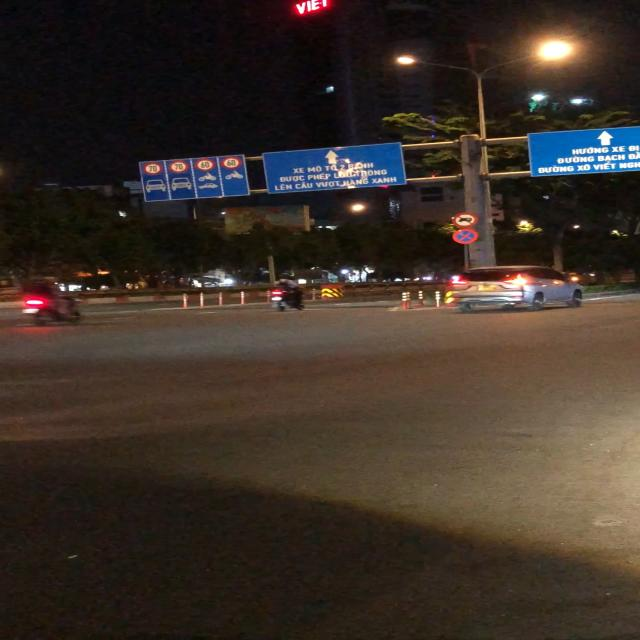Bien bao cam dung xe va do xe: (452, 229, 481, 245)
Bien bao cam xe oto tai: (450, 212, 480, 228)
Bien bao toc do toi da cho phep: (219, 156, 245, 170), (140, 161, 164, 175), (194, 158, 218, 172), (168, 160, 190, 174)
